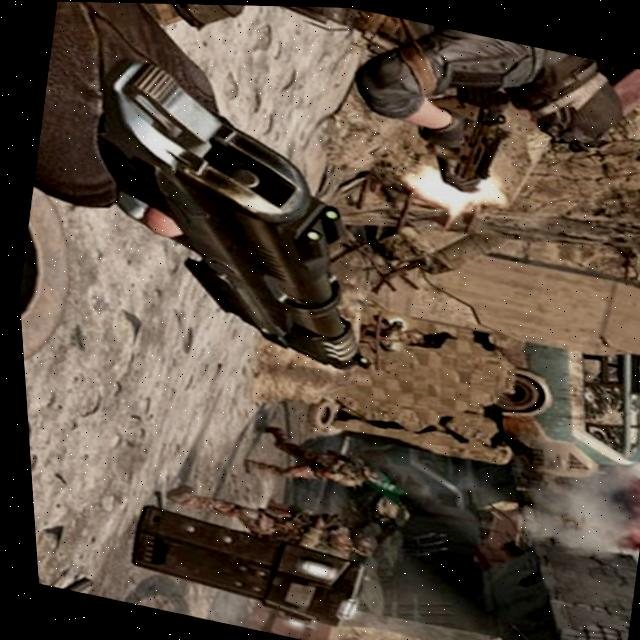firearm: (440, 91, 516, 194)
pistol: (60, 57, 417, 374)
